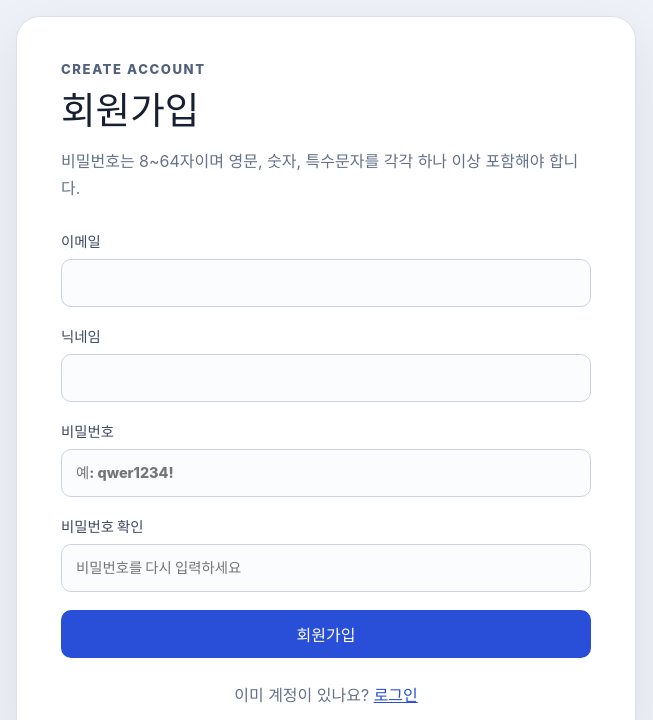
Test case: authentication views › blocks registration locally when password confirmation differs
The image size is (653, 720).
In the field named "email": point(326, 283) [61,259,591,307], type "user@example.com"
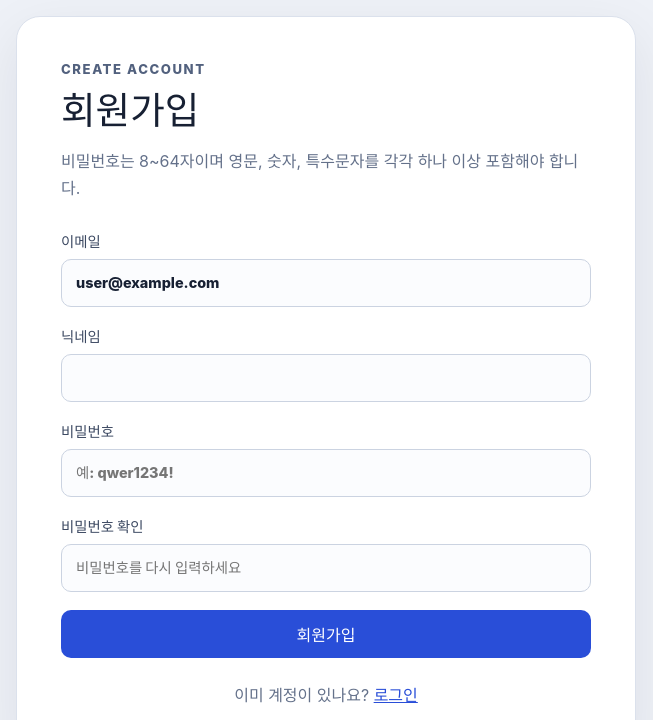
In the field named "nickname": point(326, 378) [61,354,591,402], type "player1"
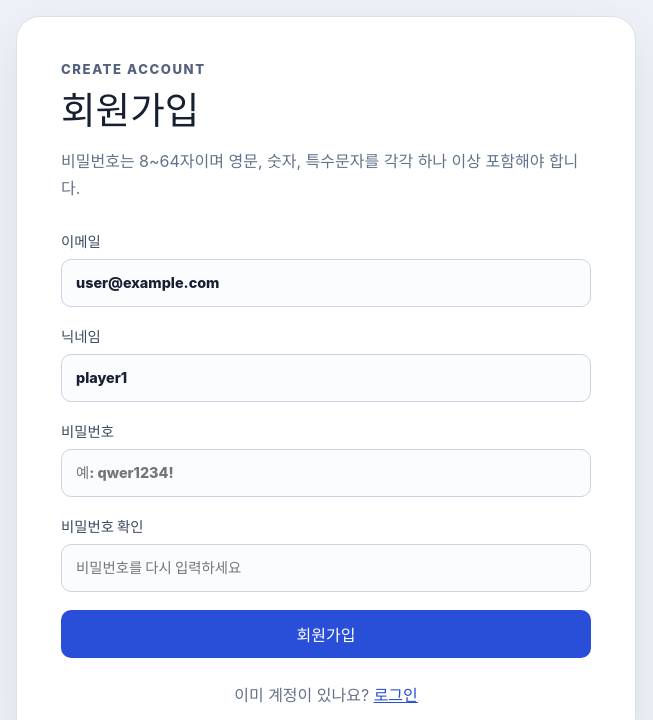
In the password field named "password": point(326, 473) [61,449,591,497], type "qwer1234!"
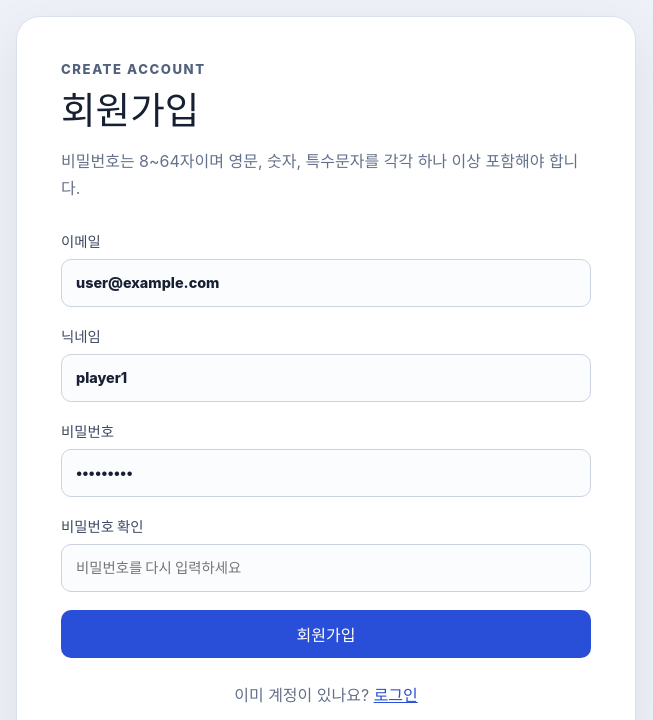
In the password field named "passwordConfirm": point(326, 568) [61,544,591,592], type "different1!"
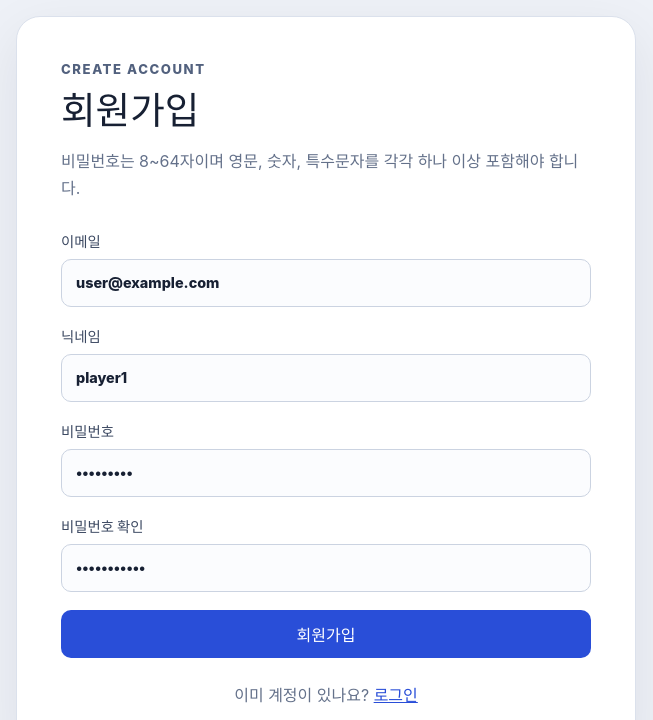
Submit the form, box [61,230,591,658]
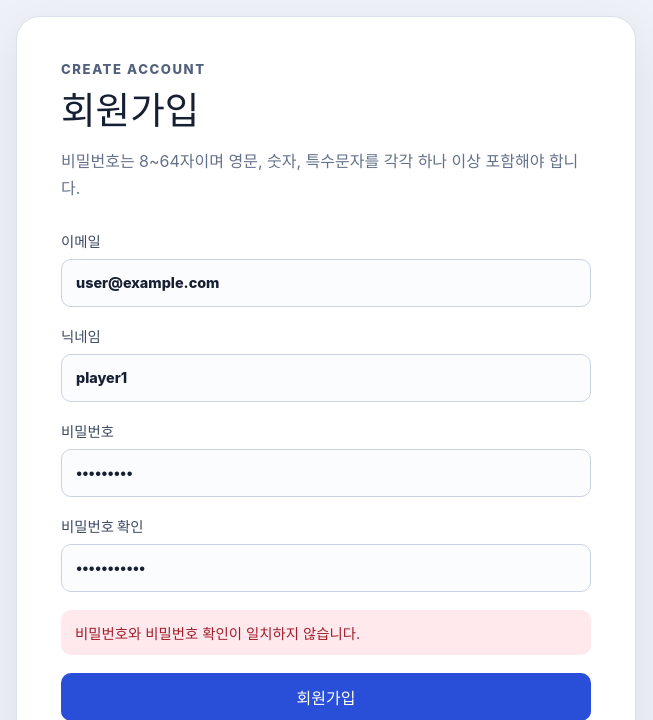
Now the text "일치하지 않습니다" is shown, box [75,625,360,642]
